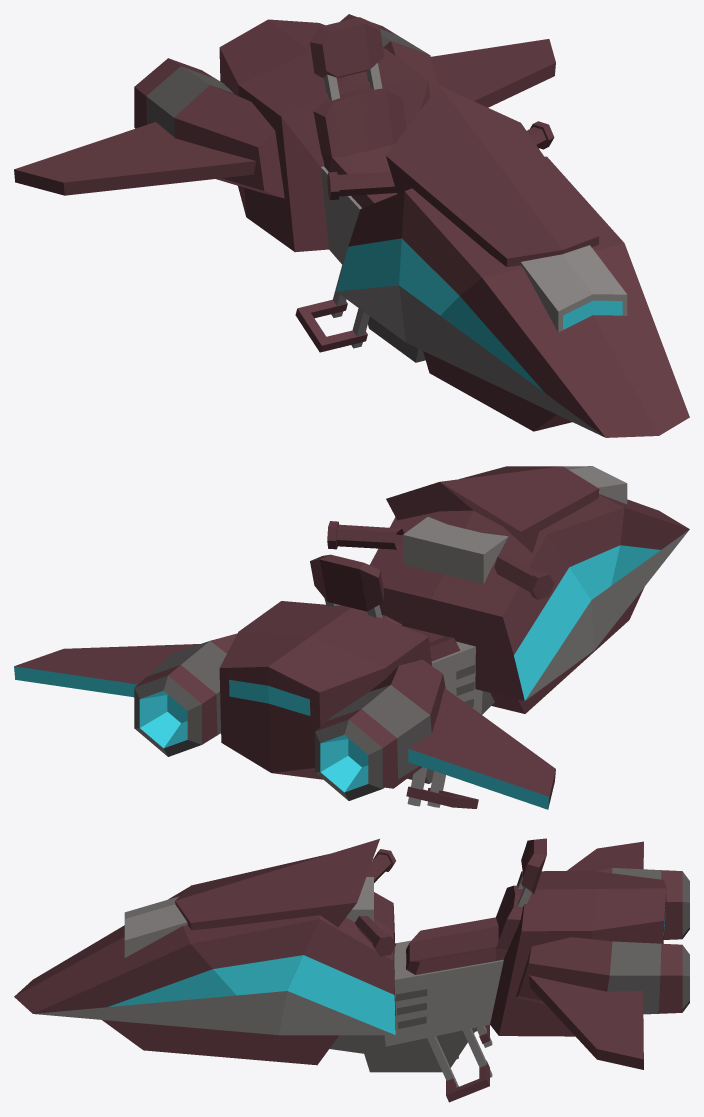
Rendered from scifi-hooverbike.fbx.
The picture shows the model from 3 angles, top to bottom: view 1: azimuth 30°, elevation 25°; view 2: azimuth 150°, elevation 25°; view 3: azimuth 270°, elevation 25°; orthographic projection. The views are drawn at different scales.
Parts seen in each view (by area): view 1: scifi-hooverbike; view 2: scifi-hooverbike; view 3: scifi-hooverbike.
Boxes of the visible parts, <box> form: scifi-hooverbike: <box>14,14,689,437</box>; scifi-hooverbike: <box>14,466,689,809</box>; scifi-hooverbike: <box>14,838,689,1102</box>.
Bounding box in the file's own units: 1.98 × 1 × 2.6.
